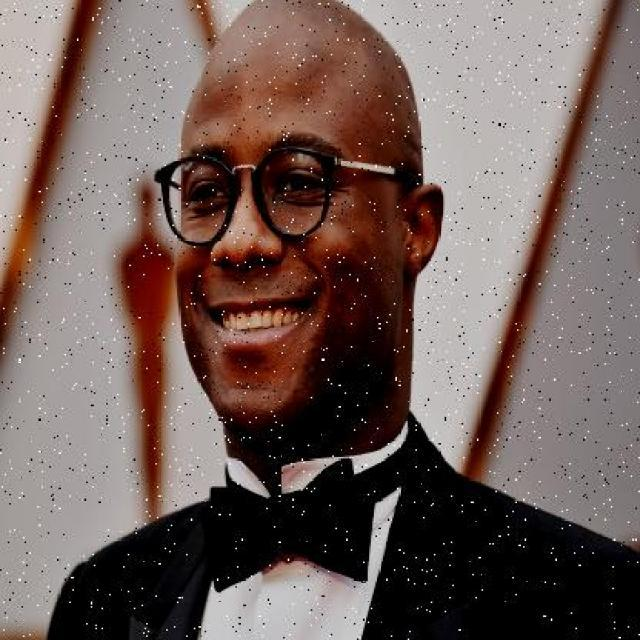mask: (147, 140, 347, 256)
